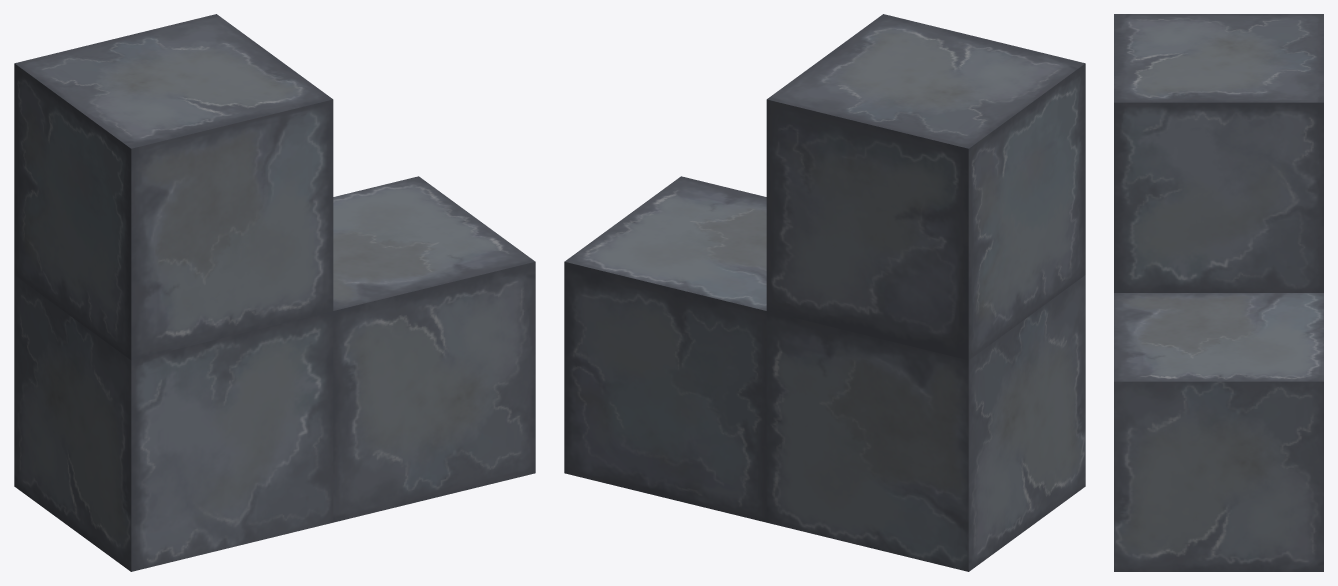
File: Castle Deco 1.fbx
The picture shows the model from 3 angles, left to right: view 1: azimuth 30°, elevation 25°; view 2: azimuth 150°, elevation 25°; view 3: azimuth 270°, elevation 25°; orthographic projection. The views are drawn at different scales.
Visible parts, largest first — view 1: Castle Deco 1; view 2: Castle Deco 1; view 3: Castle Deco 1.
Part boxes in pixels (x1,y1,x2,y2): Castle Deco 1: [14, 14, 535, 571]; Castle Deco 1: [564, 14, 1085, 571]; Castle Deco 1: [1114, 14, 1323, 571].
Size of the model in its own units: 1.5 by 1.5 by 0.75.
